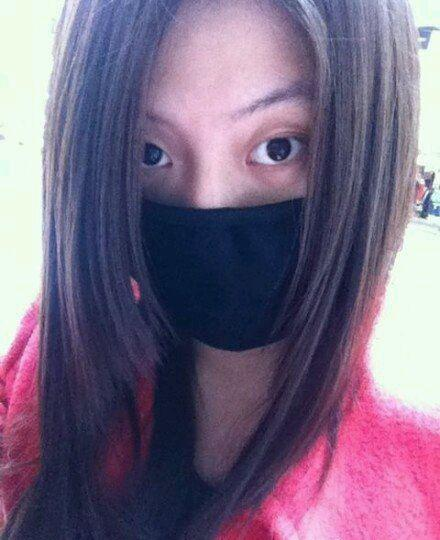OK: (104, 80, 372, 348)
